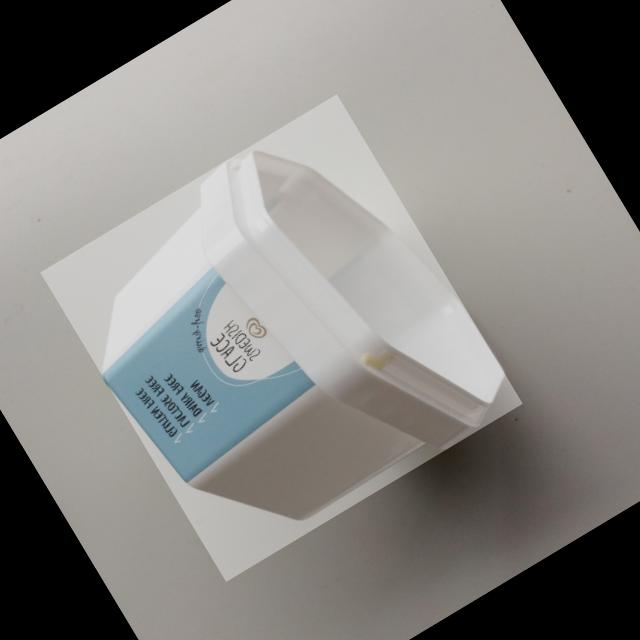Other container: (102, 150, 505, 521)
